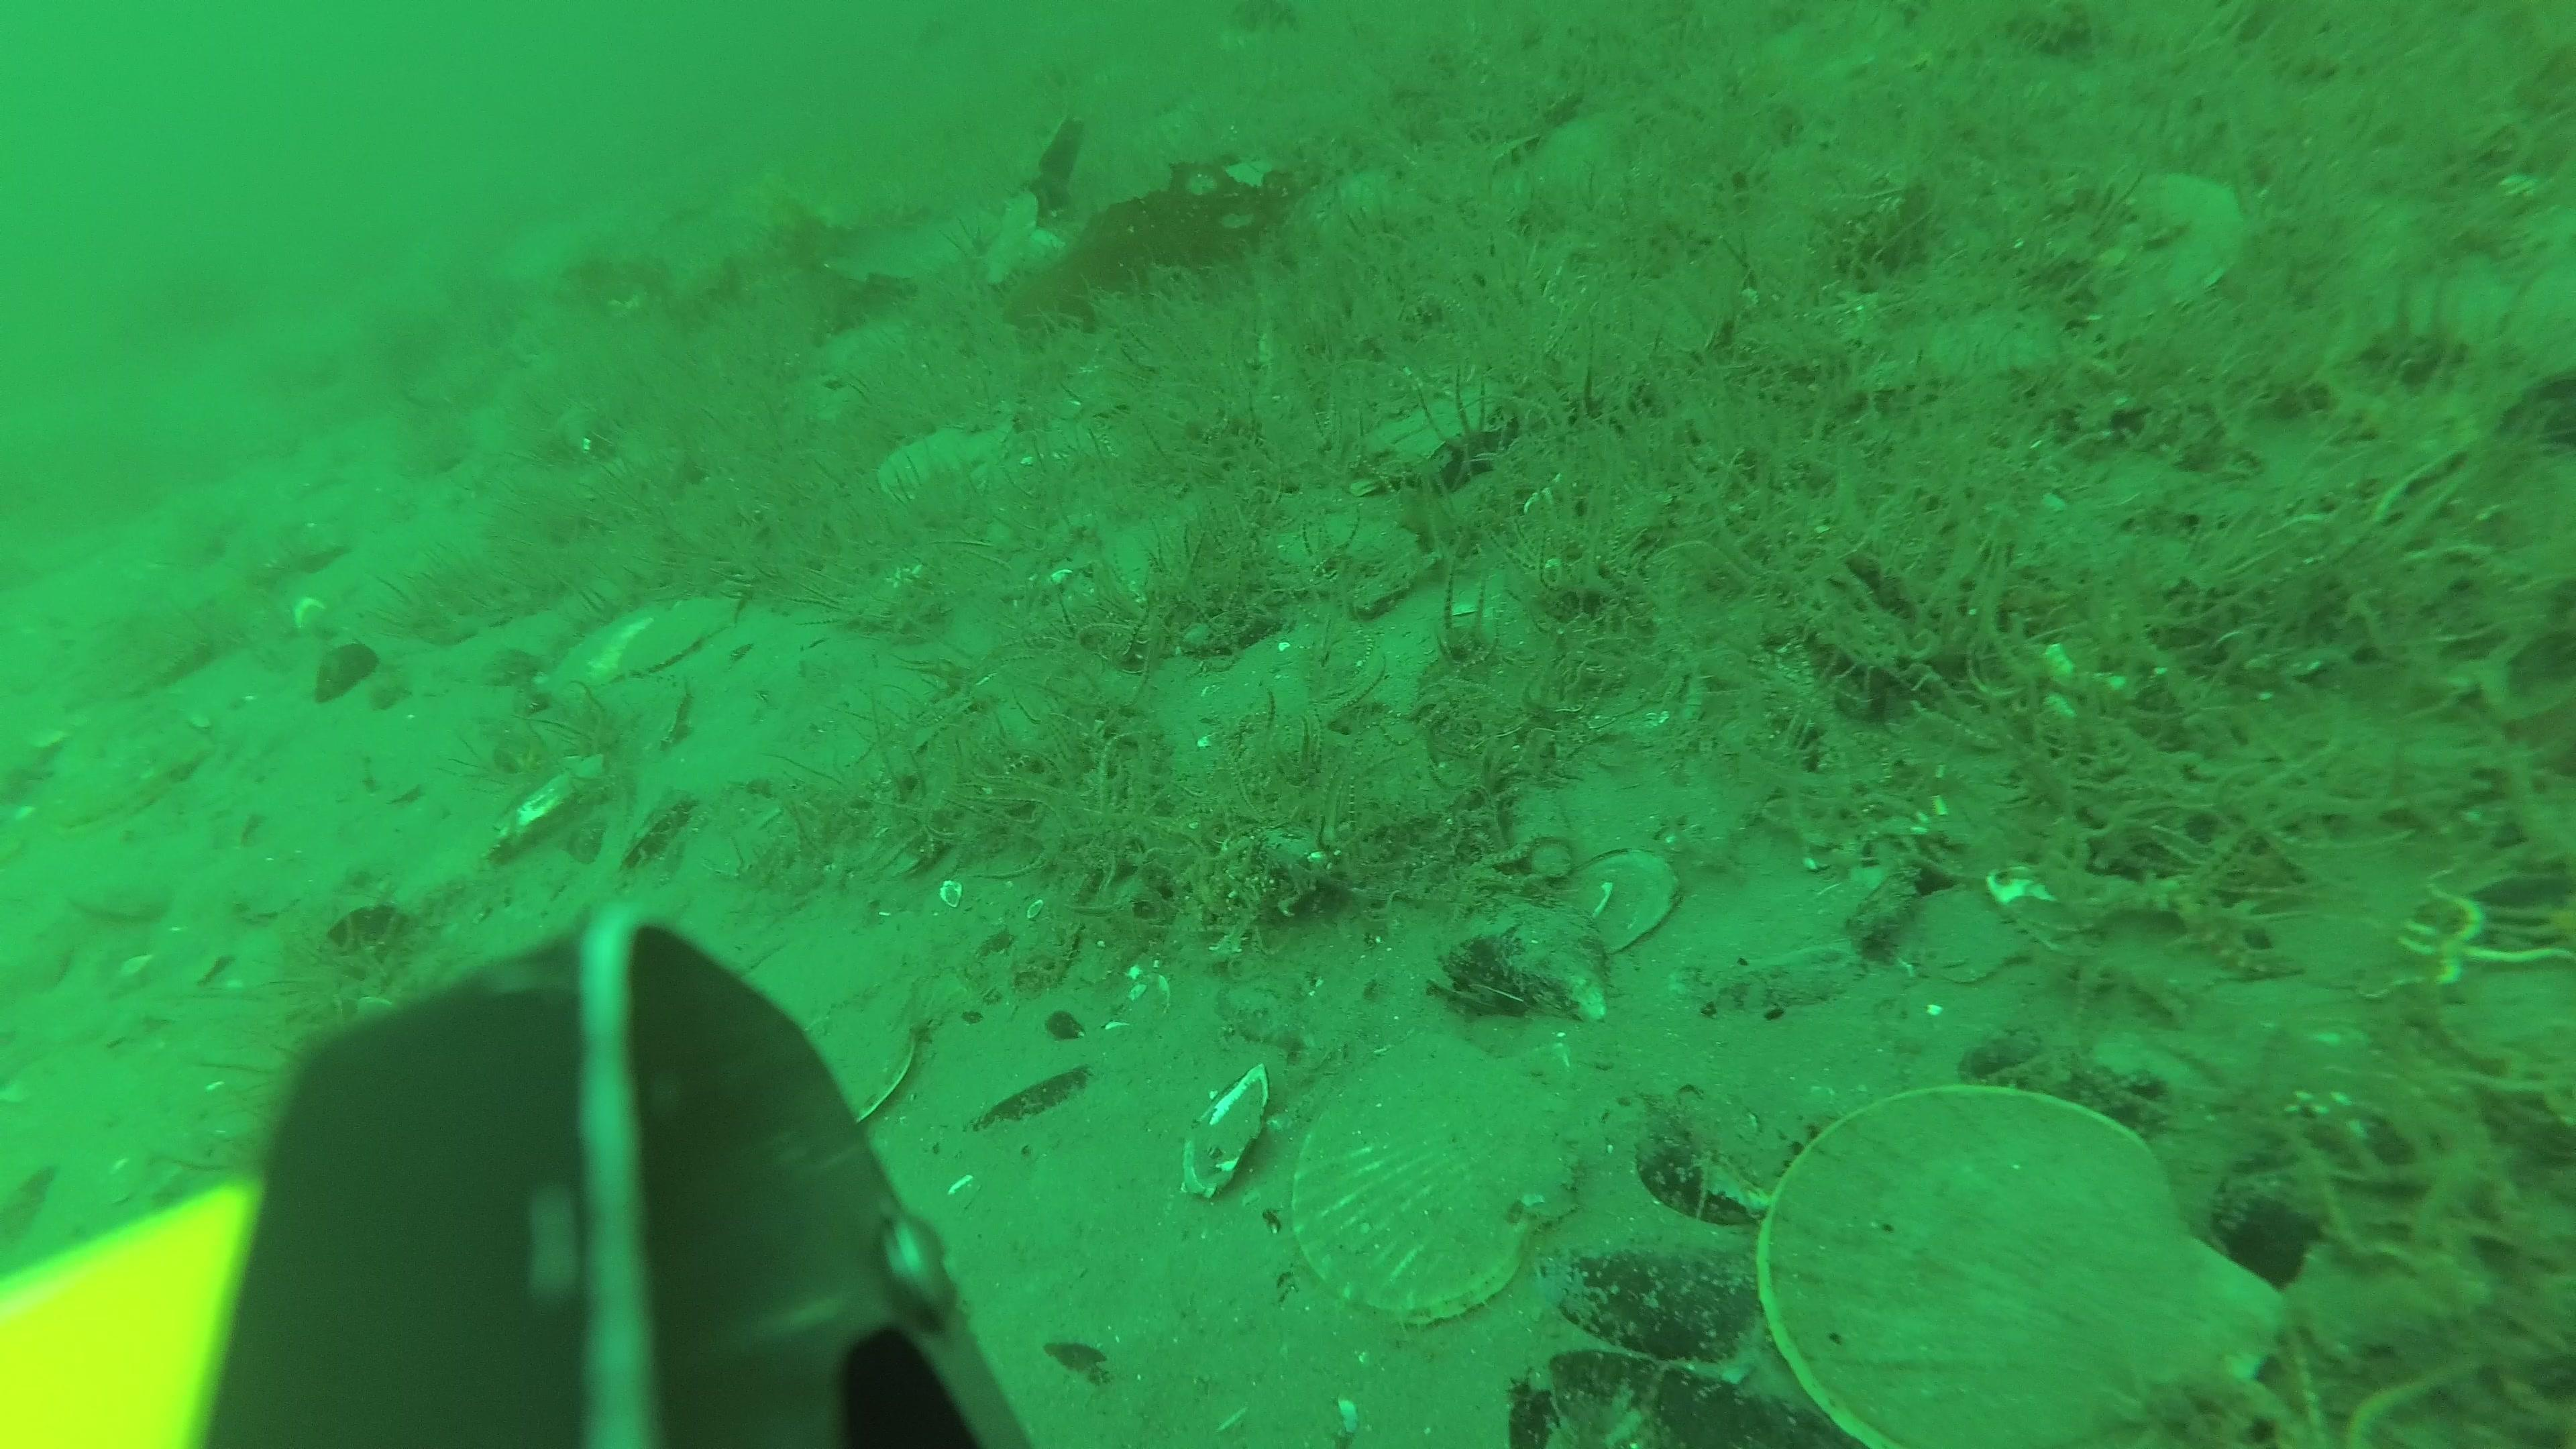scallop: (1753, 1090, 2293, 1449), (1297, 1040, 1578, 1323), (736, 922, 952, 1132), (550, 582, 748, 694), (44, 697, 211, 828), (2093, 168, 2249, 303), (878, 410, 1012, 502)
